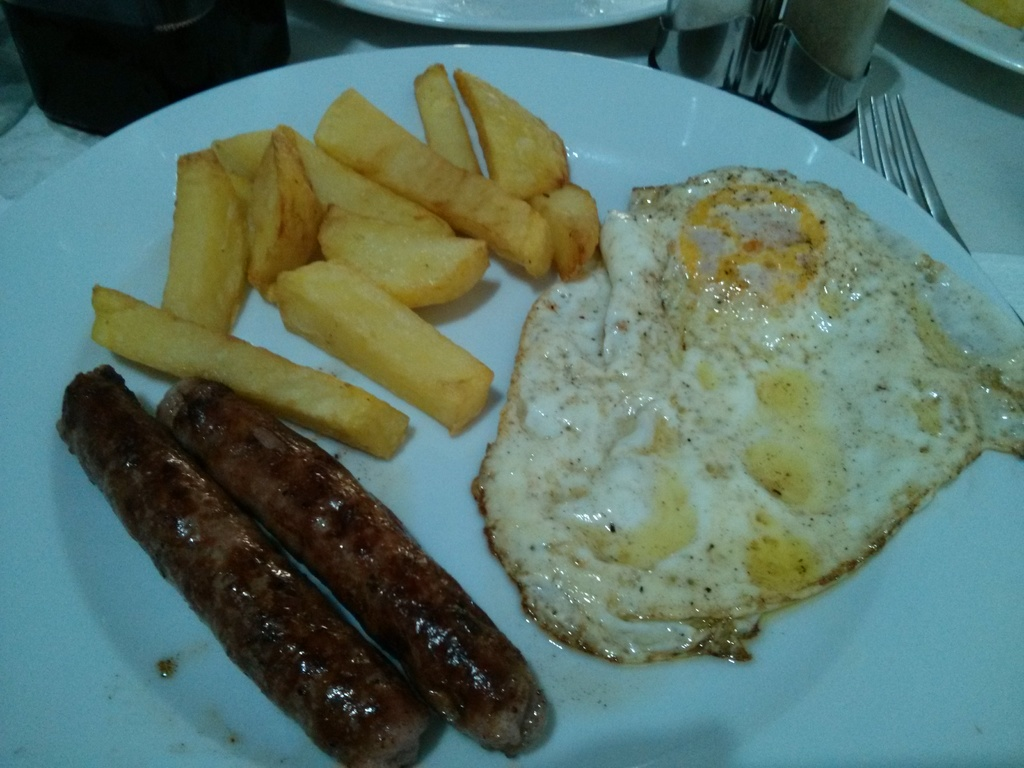French fries: (85, 54, 594, 452)
